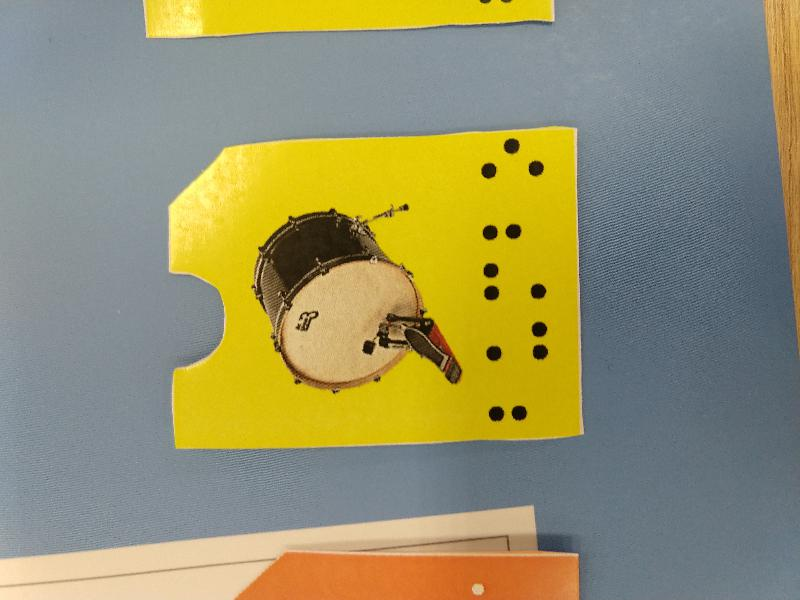bumbo: (164, 129, 592, 448)
